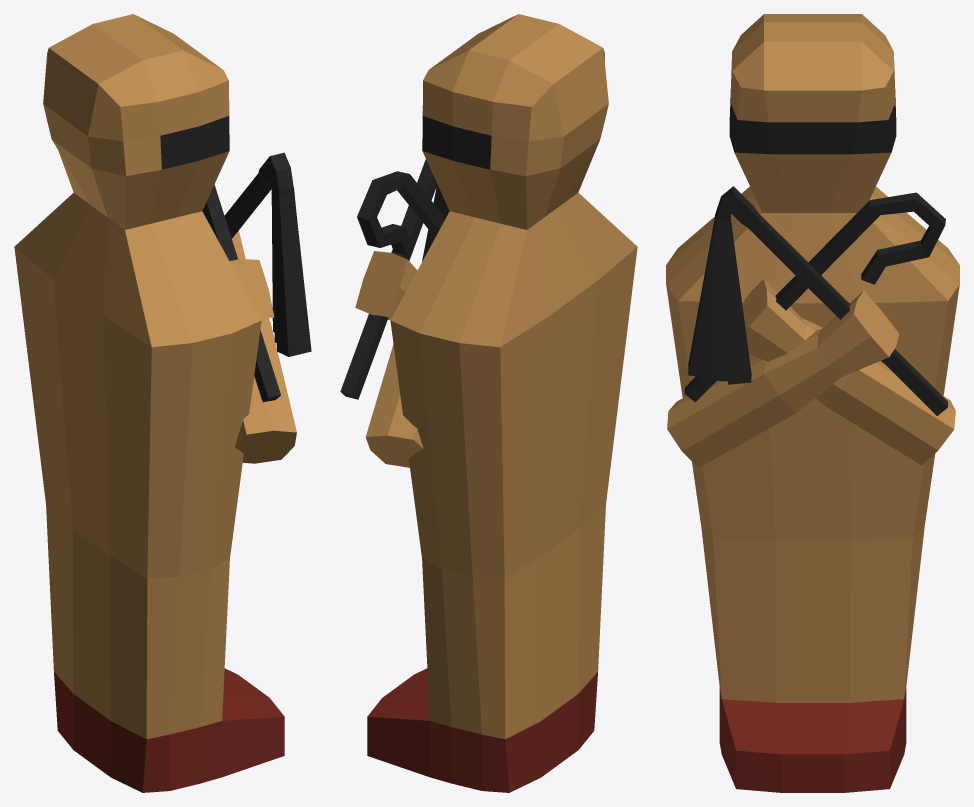
File: Sculpture01 1.fbx
3 views of the same model, side by side, from view 1: azimuth 30°, elevation 25°; view 2: azimuth 150°, elevation 25°; view 3: azimuth 270°, elevation 25° (orthographic).
Parts seen in each view (by area): view 1: Sculpture01; view 2: Sculpture01; view 3: Sculpture01.
Part boxes in pixels (x1,y1,x2,y2): Sculpture01: (14, 14, 311, 792); Sculpture01: (340, 14, 637, 792); Sculpture01: (666, 14, 959, 792).
Size of the model in its own units: 60.05 by 207 by 77.99.
